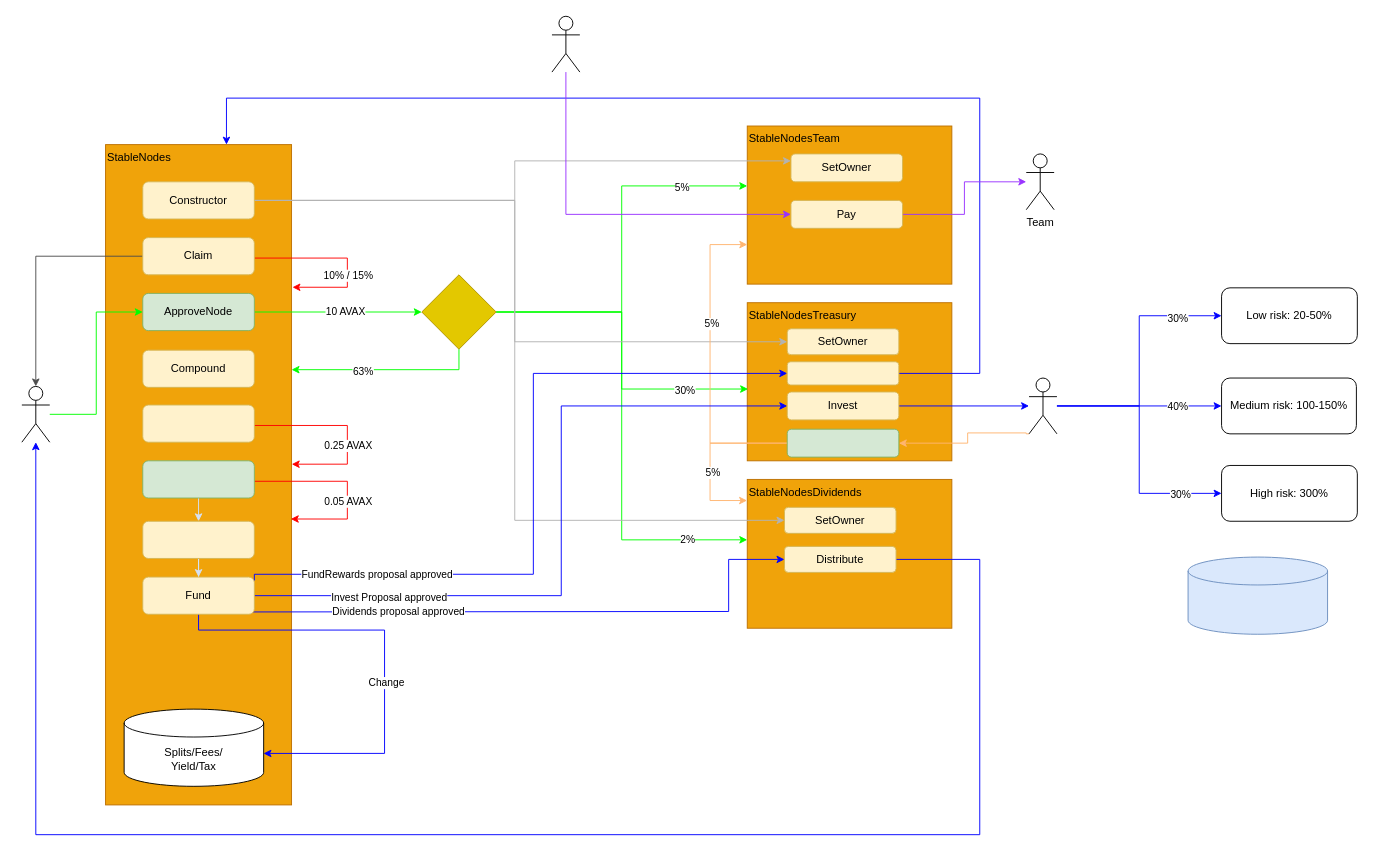
Image size: 1374x858. Some labels were removed from this diagram. The centre of each missing label's shape, as x and y in pixels:
AddProposal: (198,479)
ApproveFees: (198,423)
FundRewards: (842,373)
Invest Wallet: (1042,405)
Investor: (35,413)
Investor Database: (1257,595)
Owner: (565,43)
Split: (458,311)
TakeProfit: (842,442)
Vote: (198,539)
